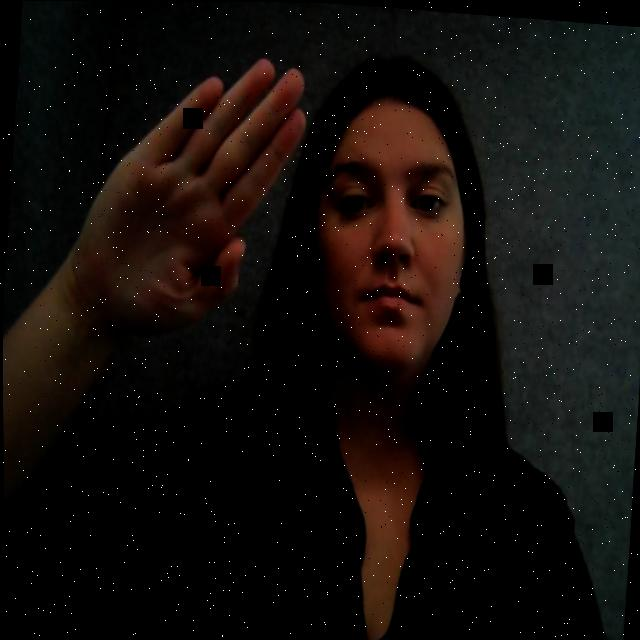Paper: (75, 43, 315, 341)
